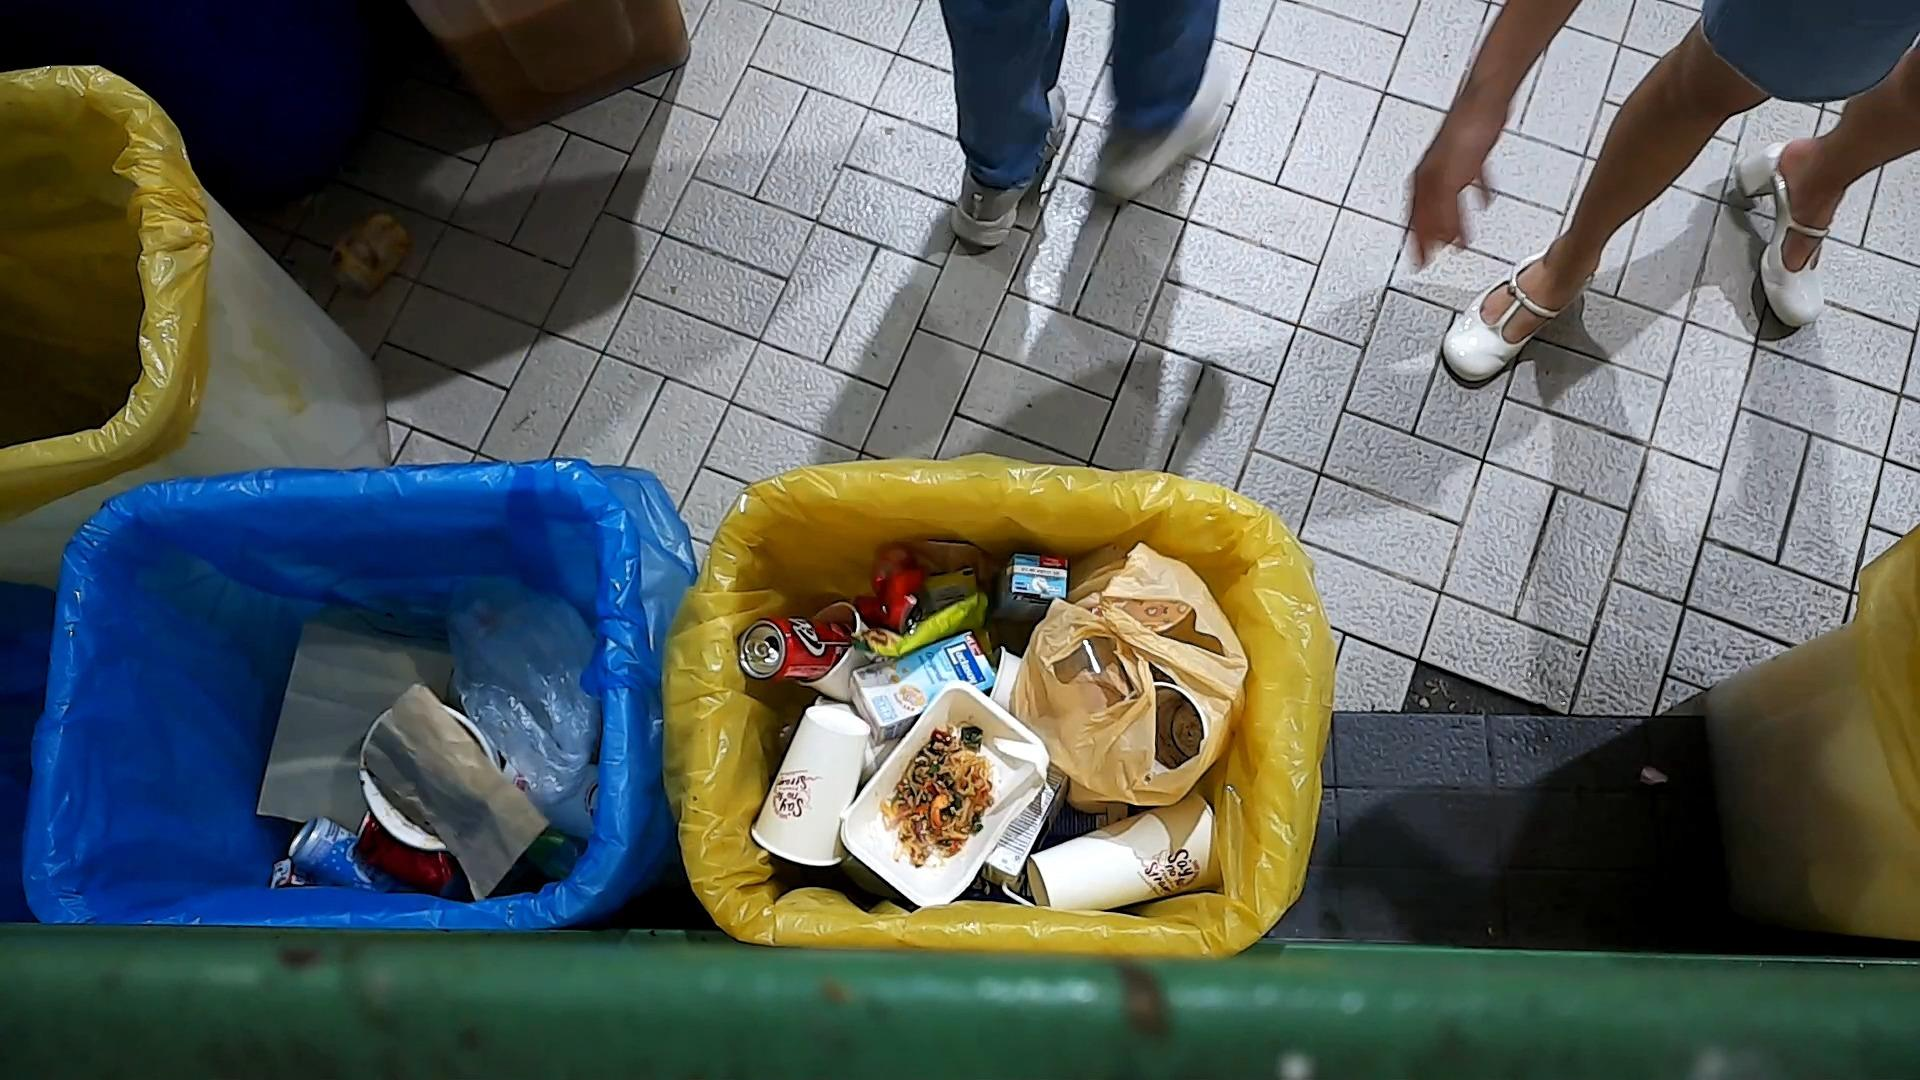can: (349, 806, 464, 898), (285, 812, 404, 895), (736, 612, 858, 683), (868, 538, 931, 640)
dirty food container: (835, 674, 1055, 910)
filled plastic bag: (1006, 538, 1255, 812)
milk carton: (847, 629, 1000, 750), (982, 761, 1073, 907), (993, 551, 1071, 633)
paper bag: (249, 617, 458, 847), (360, 676, 553, 907)
plastic bag: (442, 562, 601, 807)
snack packaging: (849, 588, 1001, 666)
zero waste cup: (1023, 787, 1226, 918), (745, 703, 874, 870)
